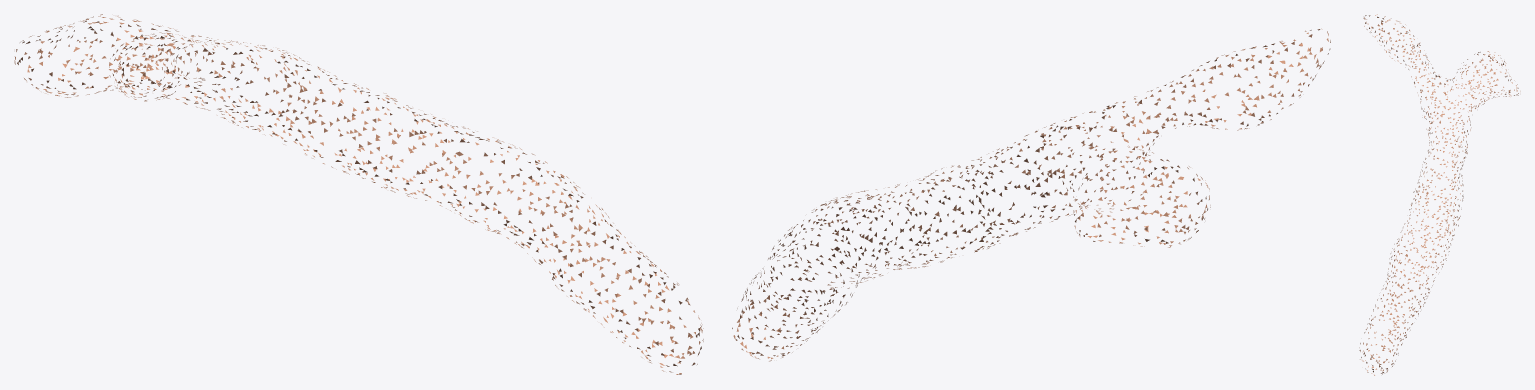
File: morph_004.glb
3 views of the same model, side by side, from view 1: azimuth 30°, elevation 25°; view 2: azimuth 150°, elevation 25°; view 3: azimuth 270°, elevation 25° (orthographic). The views are drawn at different scales.
Bounding box in the file's own units: 95.02 × 71.68 × 45.71.
